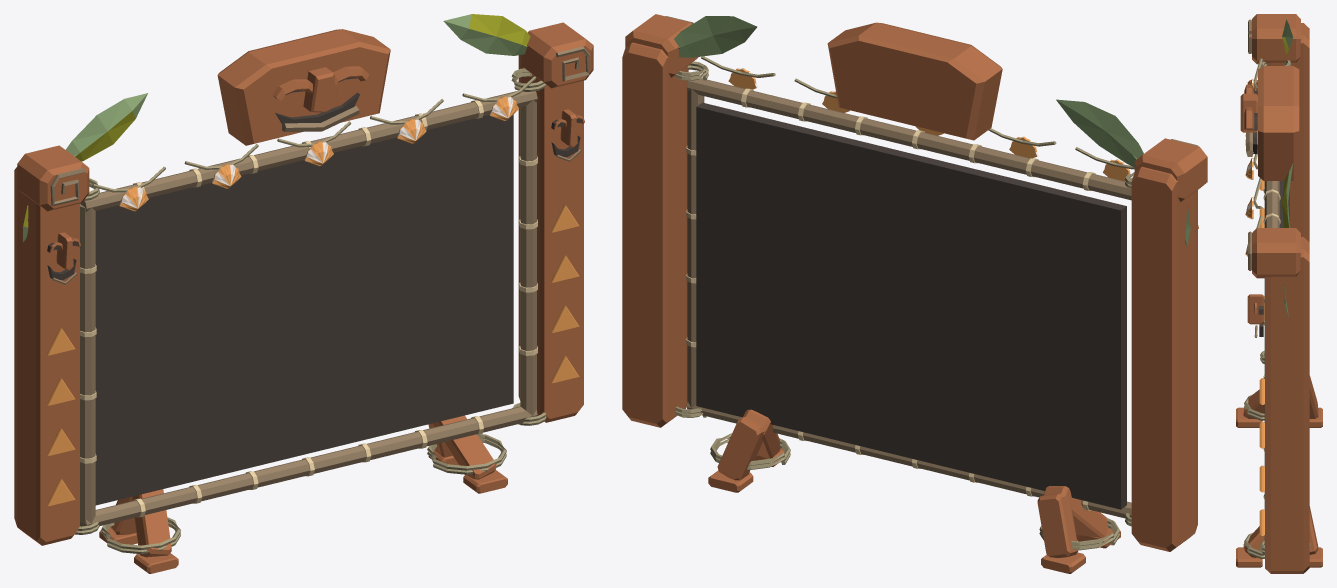
File: tikiScoreboard.glb
3 renders of one model, left to right at view 1: azimuth 30°, elevation 25°; view 2: azimuth 150°, elevation 25°; view 3: azimuth 270°, elevation 25°, orthographic. The views are drawn at different scales.
Visible parts, largest first — view 1: tikiScoreboard; view 2: tikiScoreboard; view 3: tikiScoreboard.
Part boxes in pixels (left/top/right/bottom): tikiScoreboard: left=14, top=14, right=593, bottom=573; tikiScoreboard: left=622, top=14, right=1207, bottom=573; tikiScoreboard: left=1236, top=14, right=1322, bottom=573.
Bounding box in the file's own units: 6.46 × 5.2 × 1.01.
Materials: 1 (1 with a texture image).
